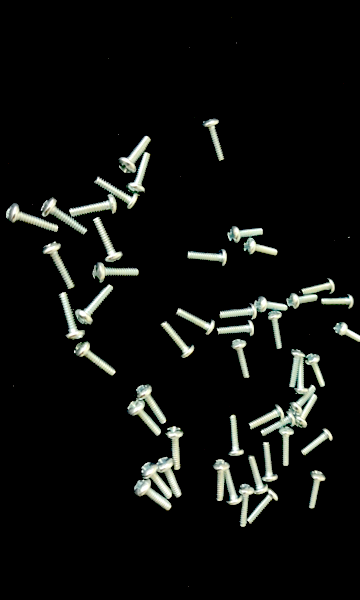shortscrew: (42, 197, 87, 236), (94, 176, 139, 213), (5, 203, 60, 233), (75, 284, 114, 326), (73, 340, 116, 377), (42, 242, 75, 290), (117, 134, 152, 175), (93, 217, 123, 264), (133, 384, 167, 425), (126, 399, 162, 437), (160, 321, 195, 359), (132, 479, 172, 512), (60, 292, 86, 342), (139, 462, 173, 499), (69, 193, 118, 218), (174, 307, 215, 336), (247, 488, 280, 524), (126, 152, 152, 197), (202, 118, 227, 163), (157, 458, 182, 498), (228, 339, 252, 379), (248, 405, 285, 430), (300, 428, 333, 456), (247, 454, 269, 495), (259, 412, 295, 437), (92, 264, 139, 283), (165, 427, 184, 471), (289, 386, 316, 416), (306, 470, 326, 509), (187, 248, 227, 267), (306, 353, 327, 389), (227, 415, 245, 457), (237, 484, 254, 528), (261, 442, 279, 483), (213, 460, 230, 502), (216, 319, 255, 337), (296, 395, 317, 428), (219, 303, 257, 321), (278, 426, 294, 467), (244, 238, 278, 257), (254, 296, 288, 315), (301, 278, 336, 296), (227, 227, 264, 244), (267, 312, 283, 350), (287, 292, 318, 311), (320, 293, 354, 310), (226, 471, 243, 505), (333, 322, 360, 343)
